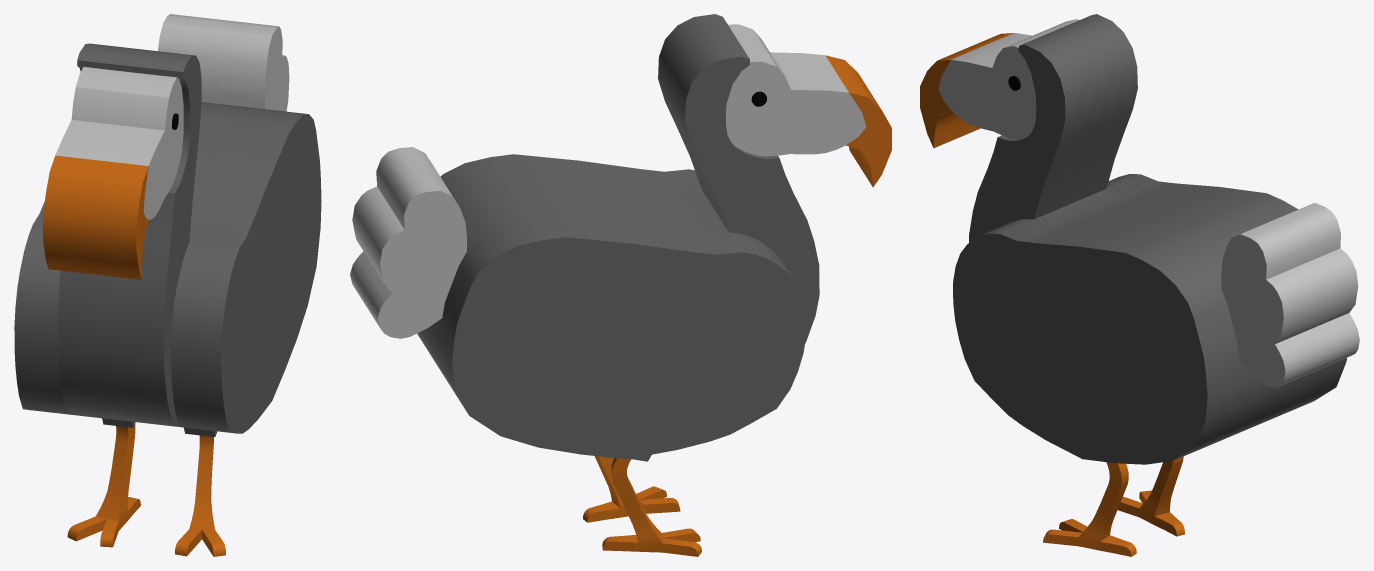
File: dodo.glb
The picture shows the model from 3 angles, left to right: view 1: azimuth 30°, elevation 25°; view 2: azimuth 150°, elevation 25°; view 3: azimuth 270°, elevation 25°; orthographic projection. The views are drawn at different scales.
Parts seen in each view (by area): view 1: Plane.158; view 2: Plane.158; view 3: Plane.158.
Part boxes in pixels (left/top/right/bottom): Plane.158: left=14, top=14, right=321, bottom=556; Plane.158: left=350, top=14, right=891, bottom=556; Plane.158: left=920, top=14, right=1359, bottom=556.
Bounding box in the file's own units: 1.78 × 2.12 × 1.78.
1 material, 1 textured.
